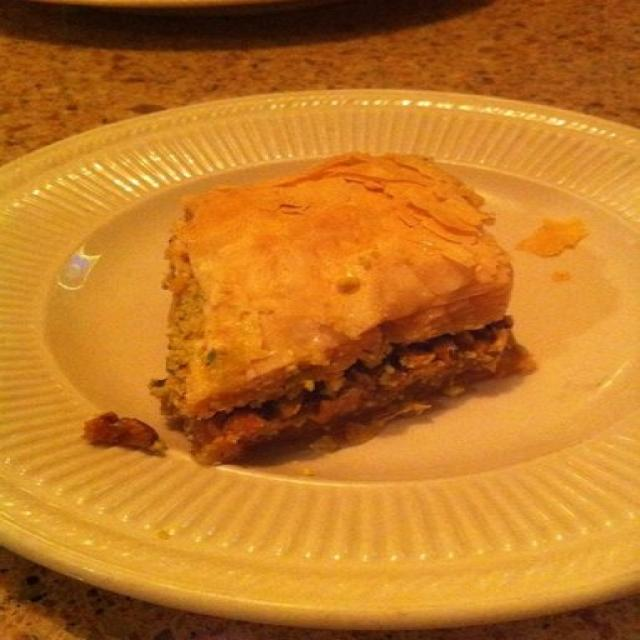Baklawa: (146, 146, 543, 477)
